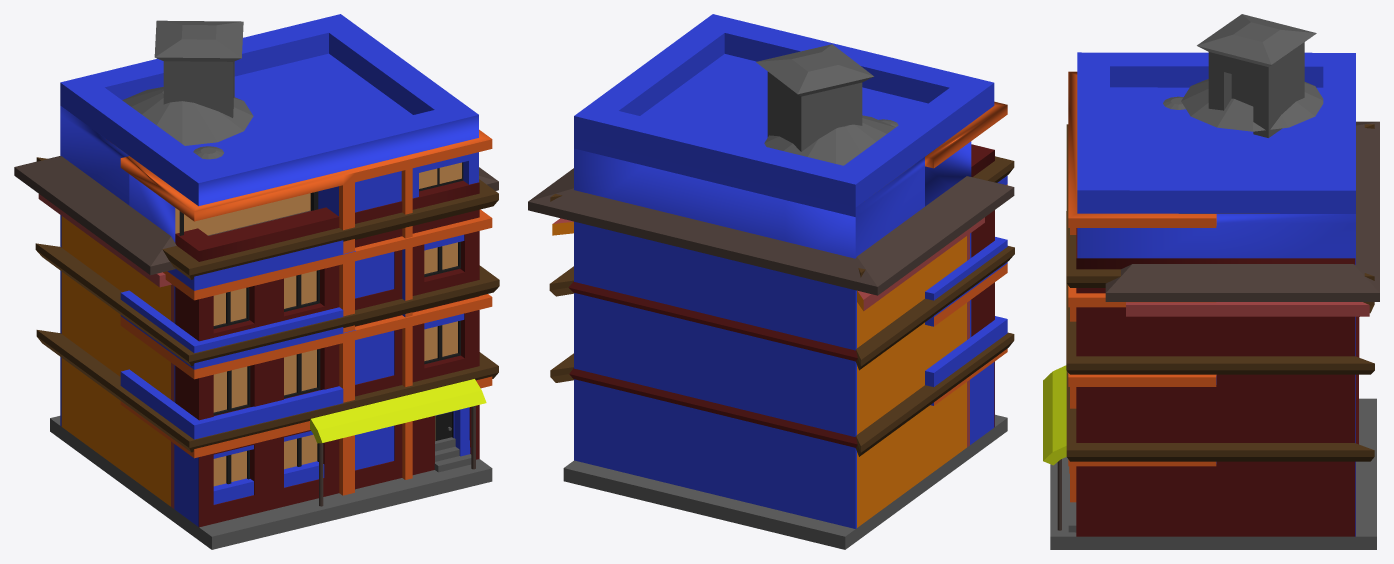
Rendered from Mini_Hauses.fbx.
The picture shows the model from 3 angles, left to right: view 1: azimuth 30°, elevation 25°; view 2: azimuth 150°, elevation 25°; view 3: azimuth 270°, elevation 25°; orthographic projection.
Visible parts, largest first — view 1: Mini_Hause_2_Cube.002, Mini_Hause_1_Cube.001, Mini_ Hause_3_Cube.003; view 2: Mini_Hause_2_Cube.002, Mini_ Hause_3_Cube.003, Mini_Hause_1_Cube.001; view 3: Mini_Hause_1_Cube.001, Mini_Hause_2_Cube.002, Mini_ Hause_3_Cube.003.
Boxes of the visible parts, left/top/right/bottom form: Mini_Hause_2_Cube.002: left=60, top=14, right=492, bottom=549; Mini_Hause_1_Cube.001: left=35, top=87, right=499, bottom=527; Mini_ Hause_3_Cube.003: left=14, top=145, right=498, bottom=549; Mini_Hause_2_Cube.002: left=574, top=14, right=1007, bottom=528; Mini_ Hause_3_Cube.003: left=528, top=119, right=1014, bottom=549; Mini_Hause_1_Cube.001: left=549, top=115, right=1014, bottom=456; Mini_Hause_1_Cube.001: left=1050, top=79, right=1376, bottom=549; Mini_Hause_2_Cube.002: left=1052, top=14, right=1355, bottom=536; Mini_ Hause_3_Cube.003: left=1043, top=96, right=1379, bottom=536.
Size of the model in its own units: 248 by 287 by 206.
